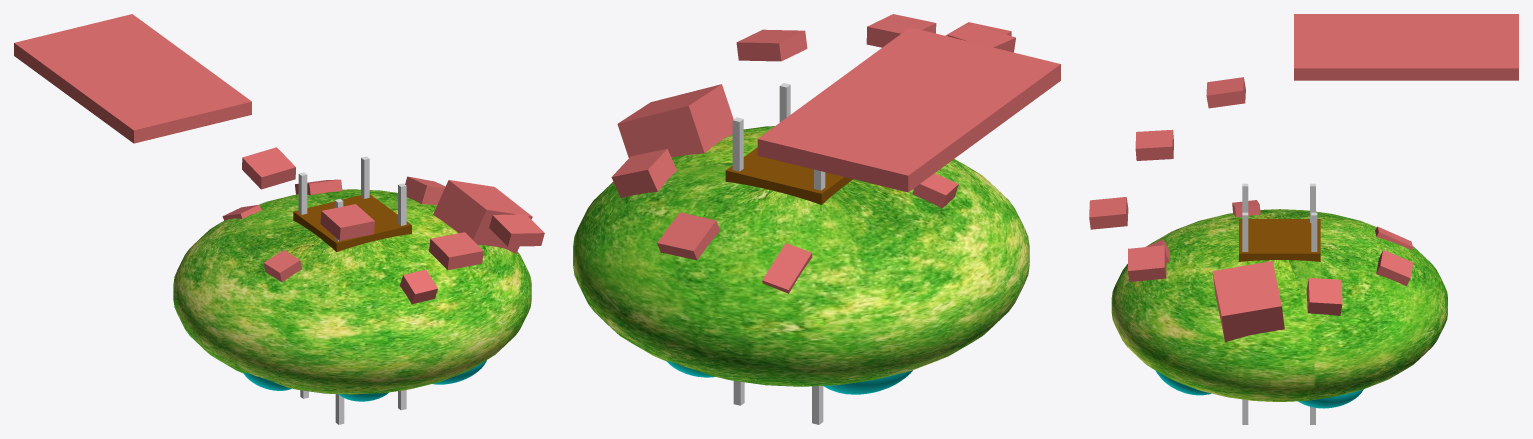
The model's file is Home.fbx.
3 views of the same model, side by side, from view 1: azimuth 30°, elevation 25°; view 2: azimuth 150°, elevation 25°; view 3: azimuth 270°, elevation 25° (orthographic). The views are drawn at different scales.
Parts seen in each view (by area): view 1: pCube9; view 2: pCube9; view 3: pCube9.
Boxes of the visible parts, box(x1,y1,x2,y2) form: pCube9: box(14, 14, 544, 424); pCube9: box(573, 14, 1060, 424); pCube9: box(1089, 14, 1518, 424).
Bounding box in the file's own units: 43.08 × 35.67 × 46.5.
Materials: 8 (1 with a texture image).
